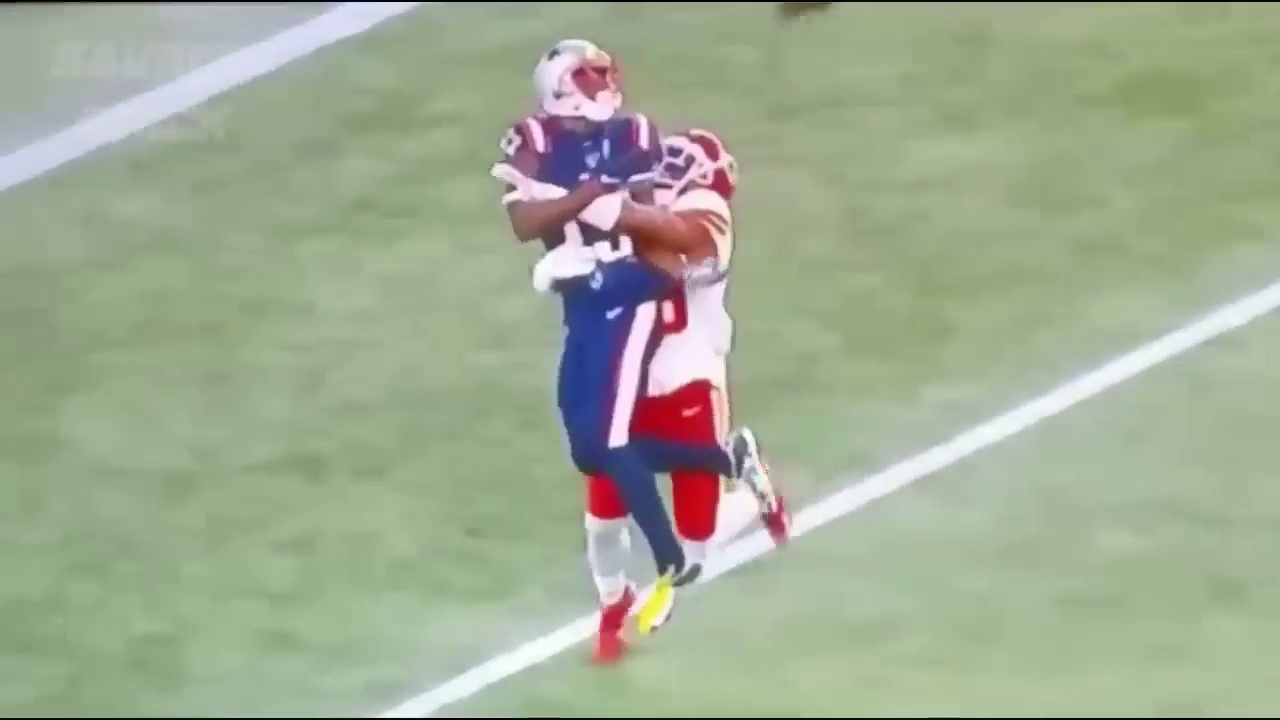interference: (499, 45, 764, 284)
